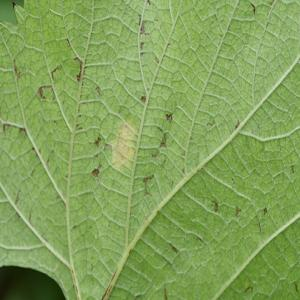Folha: (0, 0, 299, 299)
Fungo: (110, 120, 137, 171), (138, 17, 150, 57), (142, 174, 154, 196), (37, 84, 52, 100), (50, 64, 62, 80), (13, 58, 20, 78), (159, 134, 167, 148), (206, 118, 215, 128), (212, 200, 219, 212), (250, 1, 256, 15), (91, 168, 99, 178), (140, 20, 146, 33), (94, 136, 101, 147), (244, 285, 253, 293), (166, 113, 173, 123), (151, 150, 159, 158), (104, 142, 112, 150), (235, 206, 241, 216), (94, 86, 100, 96), (235, 120, 240, 130), (140, 94, 146, 102), (290, 164, 294, 174), (263, 206, 267, 214), (140, 42, 144, 50), (138, 15, 141, 25), (147, 0, 150, 5)
